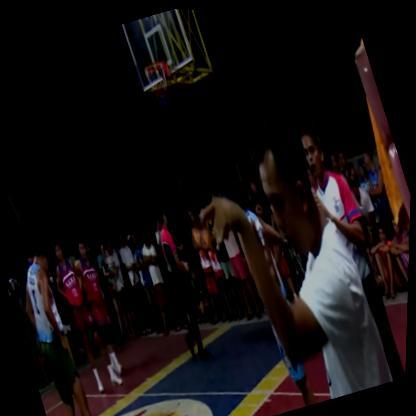rim: (138, 47, 185, 117)
